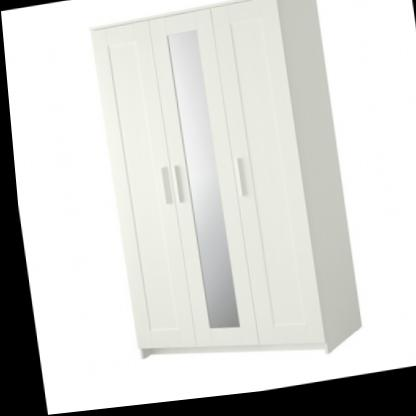Cabinet: (83, 0, 363, 393)
